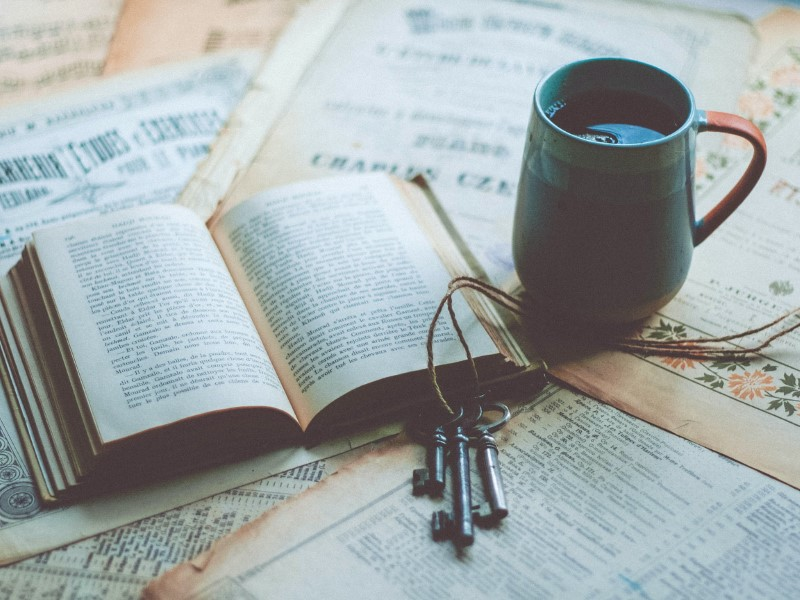key: (405, 390, 510, 554)
